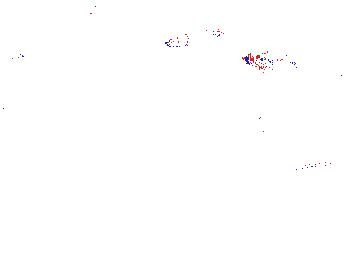X-ray fish: (313, 54, 346, 82), (254, 116, 267, 138)
glassfish: (260, 157, 345, 179)
red belly glassfish: (243, 52, 290, 69), (88, 1, 101, 21)
redtail glassfish: (164, 22, 227, 48)
